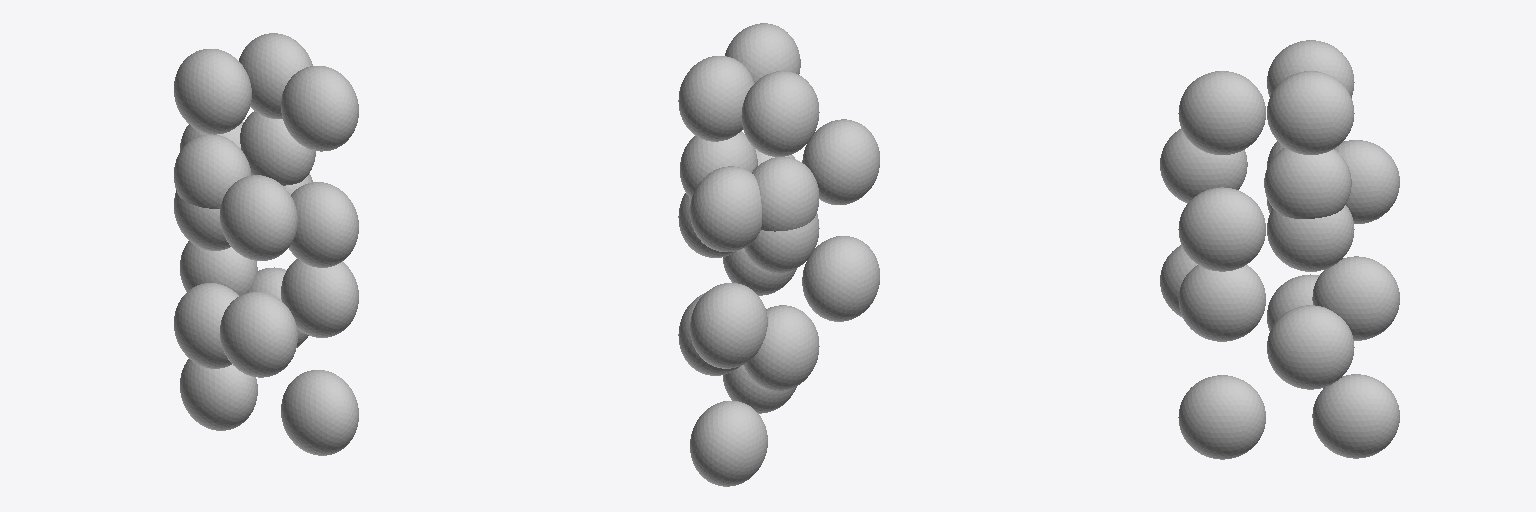
The model's file is PointsRaven.obj.
The picture shows the model from 3 angles: view 1: azimuth 30°, elevation 25°; view 2: azimuth 150°, elevation 25°; view 3: azimuth 270°, elevation 25°; orthographic projection.
Parts seen in each view (by area): view 1: PointsRaven; view 2: PointsRaven; view 3: PointsRaven.
Part boxes in pixels (x1,y1,x2,y2): PointsRaven: (174,33,358,455); PointsRaven: (678,23,879,486); PointsRaven: (1160,40,1399,459).
Bounding box in the file's own units: 0.4041 × 1.14 × 0.6224.